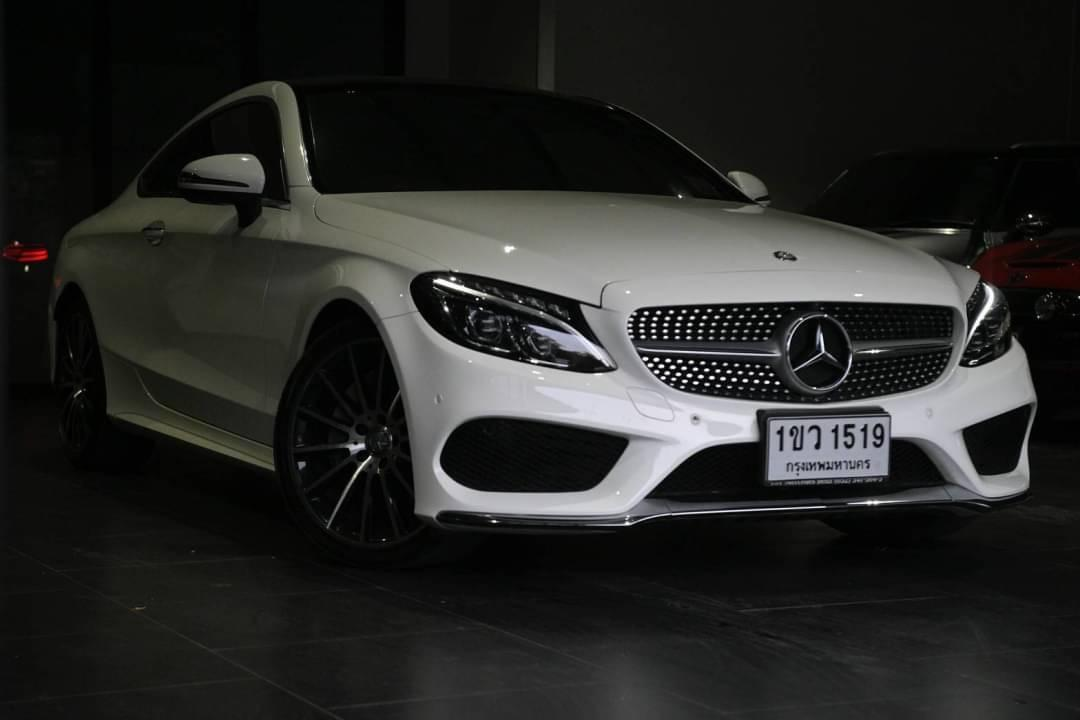license-plate: (766, 405, 891, 486)
